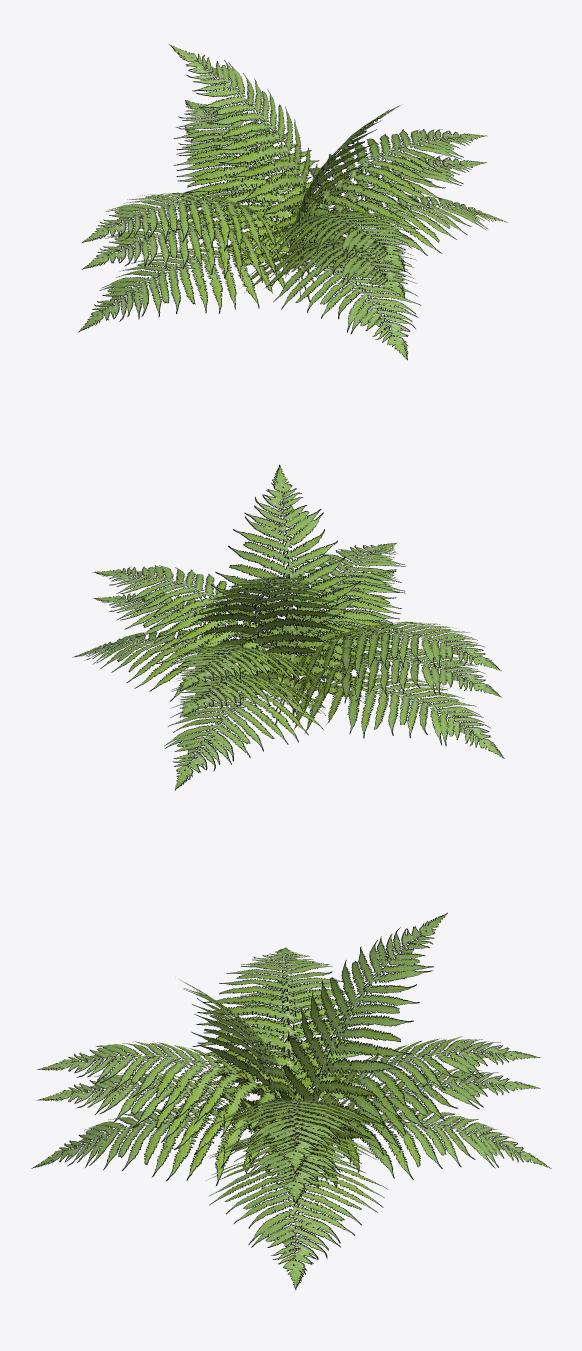
File: Fern_Exported.FBX
3 views of the same model, one above another, from view 1: azimuth 30°, elevation 25°; view 2: azimuth 150°, elevation 25°; view 3: azimuth 270°, elevation 25° (orthographic). The views are drawn at different scales.
Parts seen in each view (by area): view 1: Plane009, Plane013, Plane004, Plane011, Plane003, Plane014, Plane008, Plane012, Plane007, Plane006, Plane005, Plane002 (+2 smaller); view 2: Plane010, Plane001, Plane004, Plane009, Plane013, Plane012, Plane014, Plane008, Plane007, Plane011, Plane002, Plane005 (+2 smaller); view 3: Plane009, Plane014, Plane002, Plane012, Plane011, Plane003, Plane006, Plane001, Plane005, Plane013, Plane010, Plane007 (+1 smaller).
Part boxes in pixels (box(x1,y1,x2,y2)): Plane009: box(169, 44, 322, 246); Plane013: box(272, 129, 486, 258); Plane004: box(78, 246, 286, 332); Plane011: box(173, 100, 333, 273); Plane003: box(241, 249, 420, 360); Plane014: box(82, 192, 295, 256); Plane008: box(81, 219, 288, 282); Plane012: box(242, 211, 415, 271); Plane007: box(272, 155, 486, 285); Plane006: box(248, 238, 416, 298); Plane005: box(173, 126, 319, 301); Plane002: box(313, 195, 507, 276); Plane010: box(210, 464, 365, 722); Plane001: box(164, 681, 325, 790); Plane004: box(280, 674, 504, 758); Plane009: box(185, 577, 343, 694); Plane013: box(92, 565, 308, 690); Plane012: box(251, 543, 405, 696); Plane014: box(293, 621, 501, 688); Plane008: box(293, 648, 501, 714); Plane007: box(93, 592, 299, 704); Plane011: box(171, 644, 325, 691); Plane002: box(72, 630, 292, 701); Plane005: box(171, 670, 325, 717); Plane009: box(279, 912, 447, 1141); Plane014: box(192, 947, 372, 1118); Plane002: box(206, 1155, 387, 1290); Plane012: box(37, 1041, 288, 1139); Plane011: box(263, 1036, 540, 1160); Plane003: box(31, 1105, 275, 1185); Plane006: box(37, 1072, 317, 1169); Plane001: box(253, 1106, 551, 1187); Plane005: box(261, 1068, 540, 1188); Plane013: box(209, 1100, 383, 1172); Plane010: box(179, 979, 305, 1190); Plane007: box(208, 1130, 382, 1203).
Bounding box in the file's own units: 62.99 × 34.95 × 58.08.
1 material, 1 textured.
